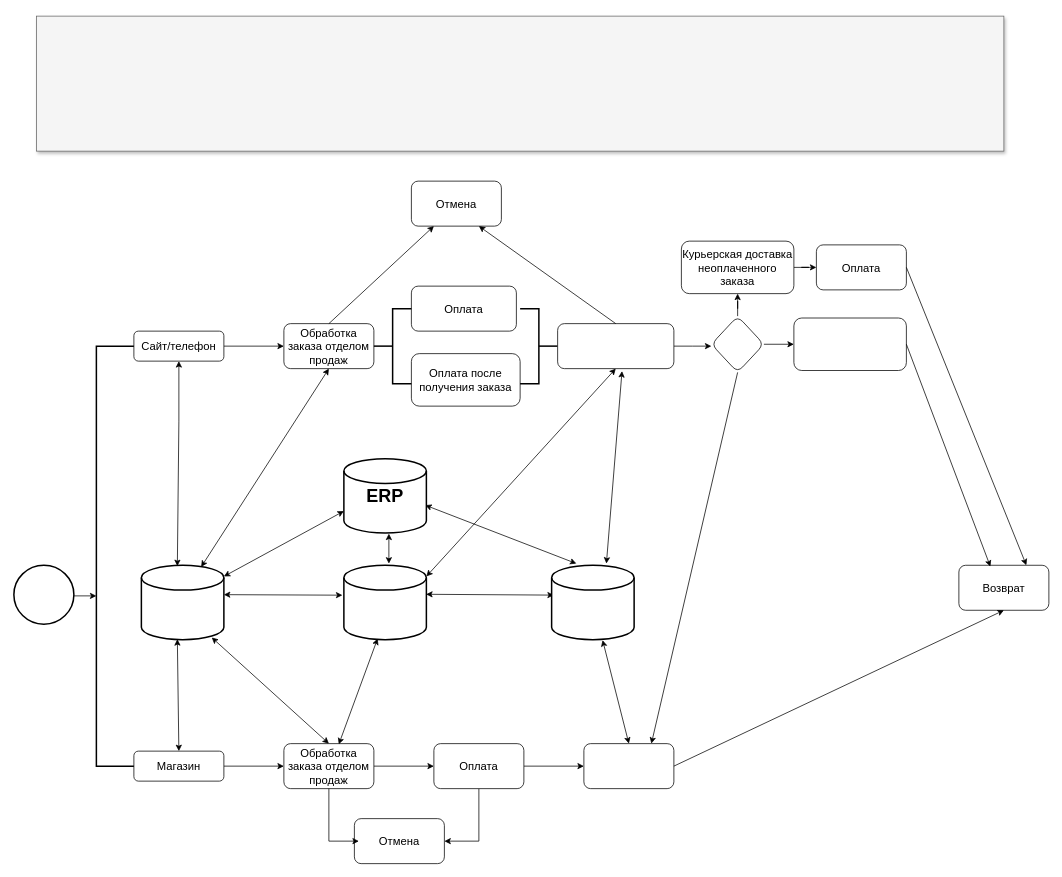
This 1062x877 diagram has some shape labels left out. The centre of each missing label's shape, as x and y in pixels:
CRM: [182,602]
SRM: [385,602]
WMS: [592,602]
Выдача заказа: [628,766]
Курьерская доставка заказа: [849,343]
Обработка заказа отделом закупок: [615,346]
СХЕМА ПРОХОЖДЕНИЯ ЗАКАЗА ОТ ПОСТУПЛЕНИЯ ДО ПОЛУЧЕНИЯ КЛИЕНТОМ: [520,84]
